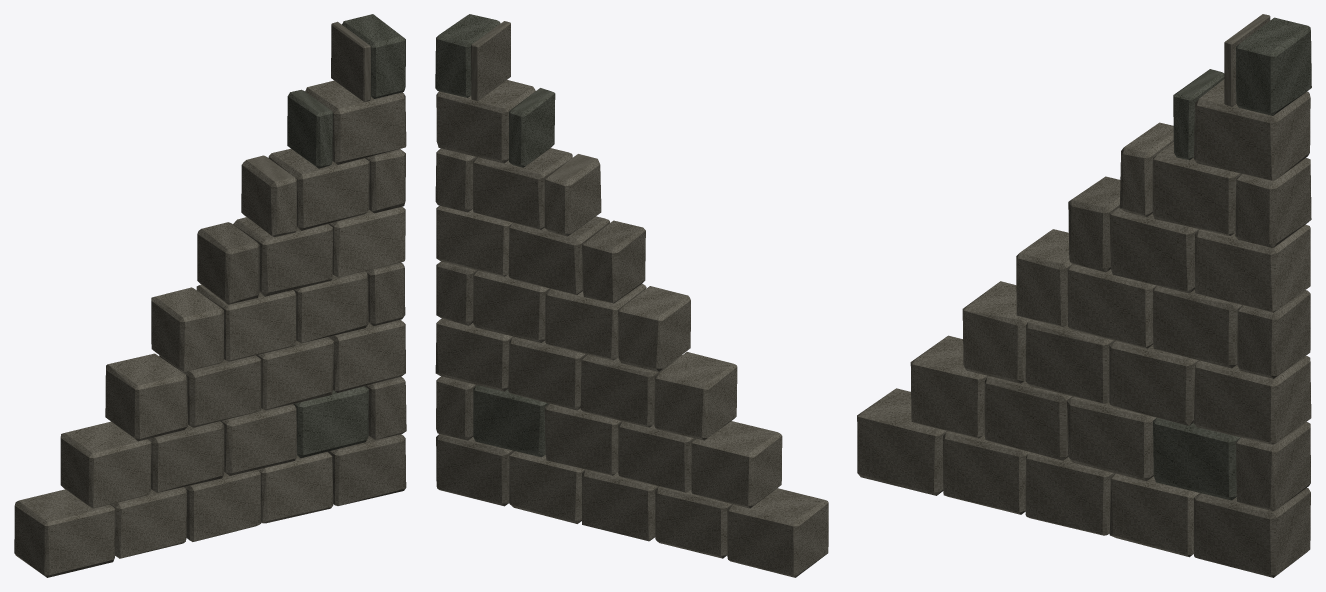
File: env_ruin_walls_05_stepped_right.glb
3 renders of one model, left to right at view 1: azimuth 30°, elevation 25°; view 2: azimuth 150°, elevation 25°; view 3: azimuth 330°, elevation 25°, orthographic. The views are drawn at different scales.
Size of the model in its own units: 1.99 by 2.39 by 0.3255.
Materials: 1 (1 with a texture image).
